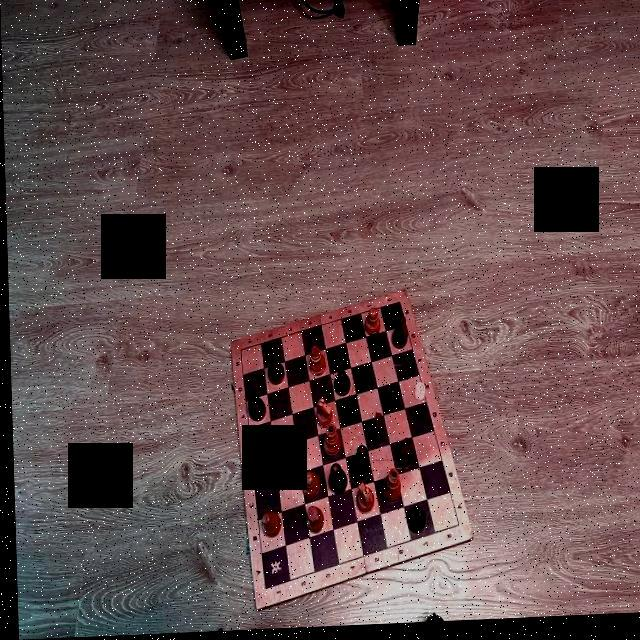chess-table-corners: (259, 587, 265, 595), (452, 525, 458, 533), (236, 349, 241, 356), (396, 303, 400, 308)
